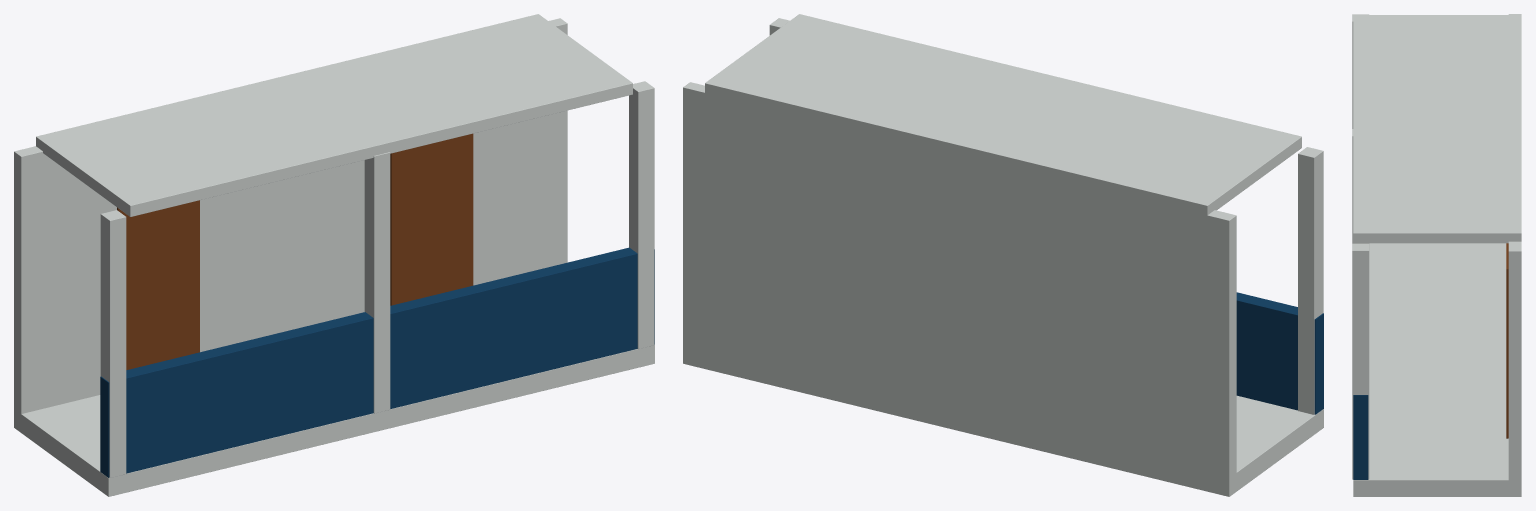
Rendered from edited.glb.
3 views of the same model, side by side, from view 1: azimuth 30°, elevation 25°; view 2: azimuth 150°, elevation 25°; view 3: azimuth 270°, elevation 25° (orthographic). The views are drawn at different scales.
Visible parts, largest first — view 1: WALL, CEILING, PARAPET, FLOOR, DOOR_Panel.001, DOOR_Panel, COLUMN.001, COLUMN, COLUMN.002; view 2: WALL, CEILING, FLOOR, PARAPET, COLUMN.001; view 3: CEILING, FLOOR, WALL, COLUMN, PARAPET, DOOR_Panel.001, COLUMN.002, COLUMN.001.
Boxes of the visible parts, bbox=[...] form: WALL: bbox=[14, 18, 567, 413]; CEILING: bbox=[36, 14, 632, 216]; PARAPET: bbox=[100, 247, 654, 477]; FLOOR: bbox=[14, 345, 654, 496]; DOOR_Panel.001: bbox=[390, 133, 473, 305]; DOOR_Panel: bbox=[117, 200, 199, 369]; COLUMN.001: bbox=[100, 210, 126, 477]; COLUMN: bbox=[629, 81, 654, 348]; COLUMN.002: bbox=[364, 152, 390, 413]; WALL: bbox=[683, 82, 1236, 486]; CEILING: bbox=[705, 14, 1301, 216]; FLOOR: bbox=[683, 345, 1323, 496]; PARAPET: bbox=[1236, 292, 1323, 414]; COLUMN.001: bbox=[1298, 147, 1323, 414]; CEILING: bbox=[1353, 15, 1521, 243]; FLOOR: bbox=[1353, 243, 1521, 496]; WALL: bbox=[1508, 14, 1521, 488]; COLUMN: bbox=[1352, 243, 1369, 479]; PARAPET: bbox=[1353, 395, 1368, 479]; DOOR_Panel.001: bbox=[1506, 243, 1508, 438]; COLUMN.002: bbox=[1352, 129, 1369, 243]; COLUMN.001: bbox=[1352, 14, 1368, 128].
Bounding box in the file's own units: 6 × 3 × 1.81.
